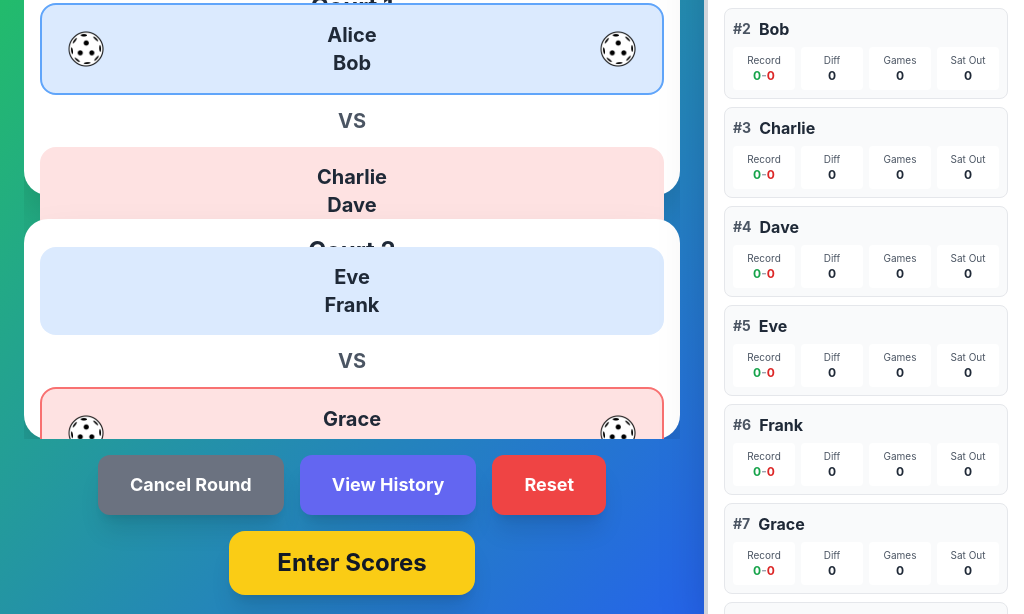
it: App Integration Tests › State Transitions › transitions from PLAYING to SCORING when entering scores
This screenshot has width=1024, height=614.
Click the button "Enter Scores" at (352, 563), box [229,531,475,595]
(page scrolled)
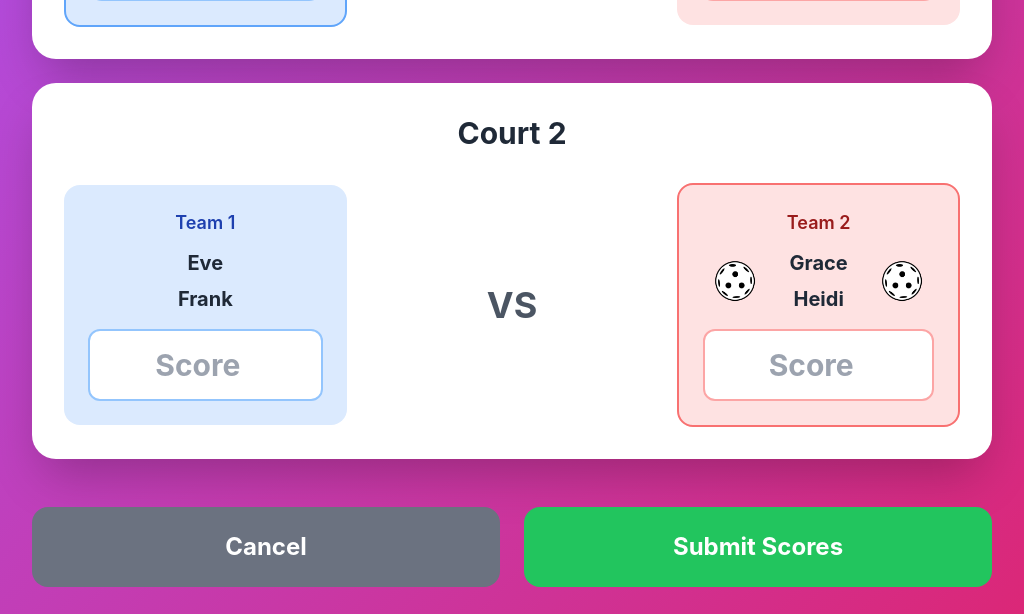
Result: the button "Submit Scores" is shown at [524,507,992,587]
